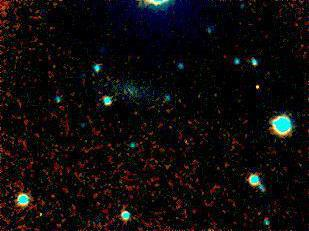star: (245, 69, 275, 99)
